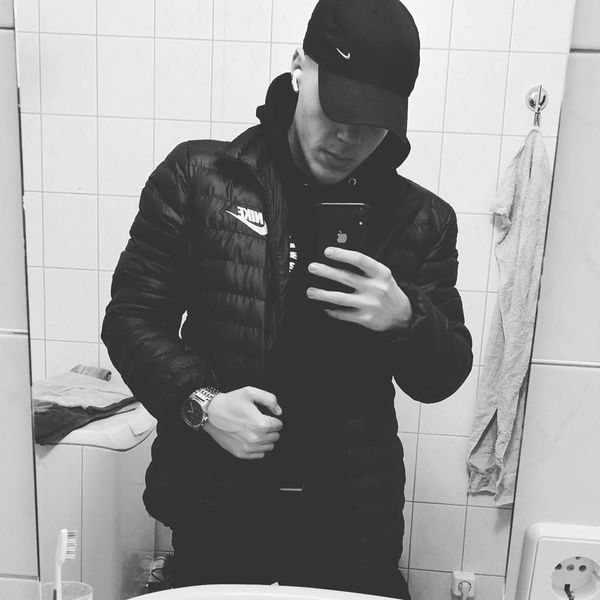nike: (224, 204, 271, 240)
